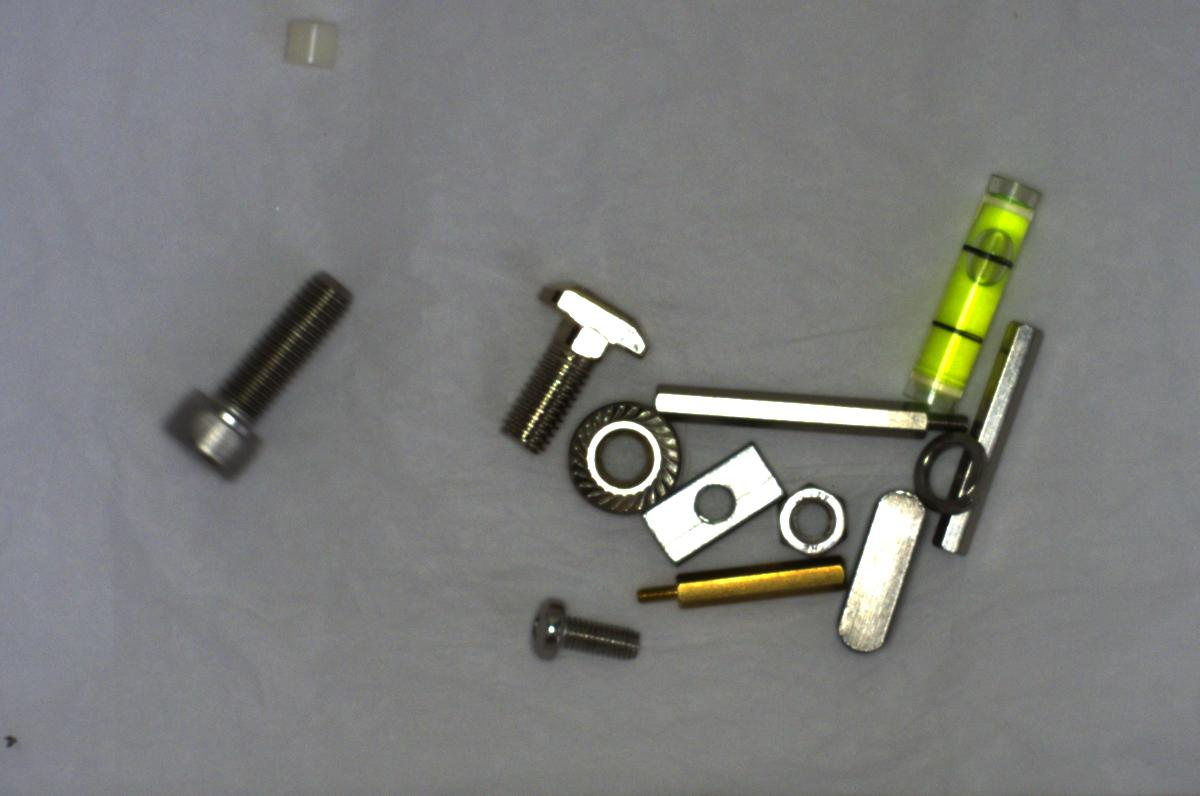Double hexagonal column: (937, 309, 1044, 568)
Flange nut: (557, 385, 676, 522)
Hexagon nut: (767, 476, 850, 569)
Hexagon pillar: (634, 555, 846, 610)
Hexagon screw: (165, 262, 364, 476)
Hexagonal steel column: (635, 385, 974, 442)
Horizontal bubble: (906, 173, 1044, 413)
Keybar: (823, 486, 946, 662)
Plastic cushion pillar: (265, 5, 352, 80)
Rectangular nut: (644, 444, 784, 556)
Round head screw: (517, 591, 644, 671)
Spring washer: (907, 430, 993, 514)
T-shaped screw: (489, 283, 655, 450)
